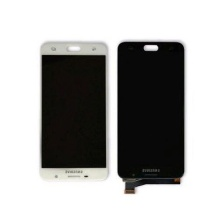phone: (36, 39, 108, 187), (113, 36, 185, 183)
